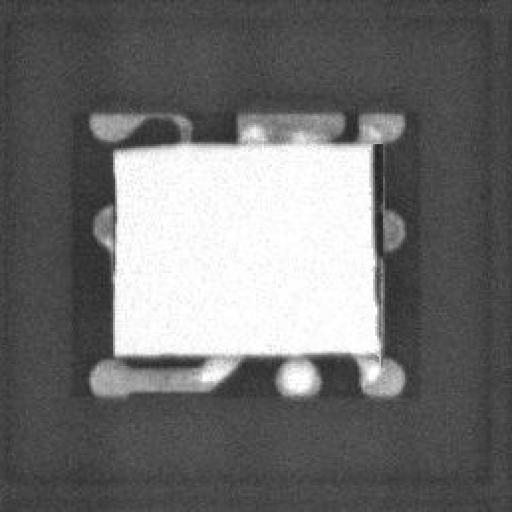DIE_BROKEN: (365, 138, 383, 336)
